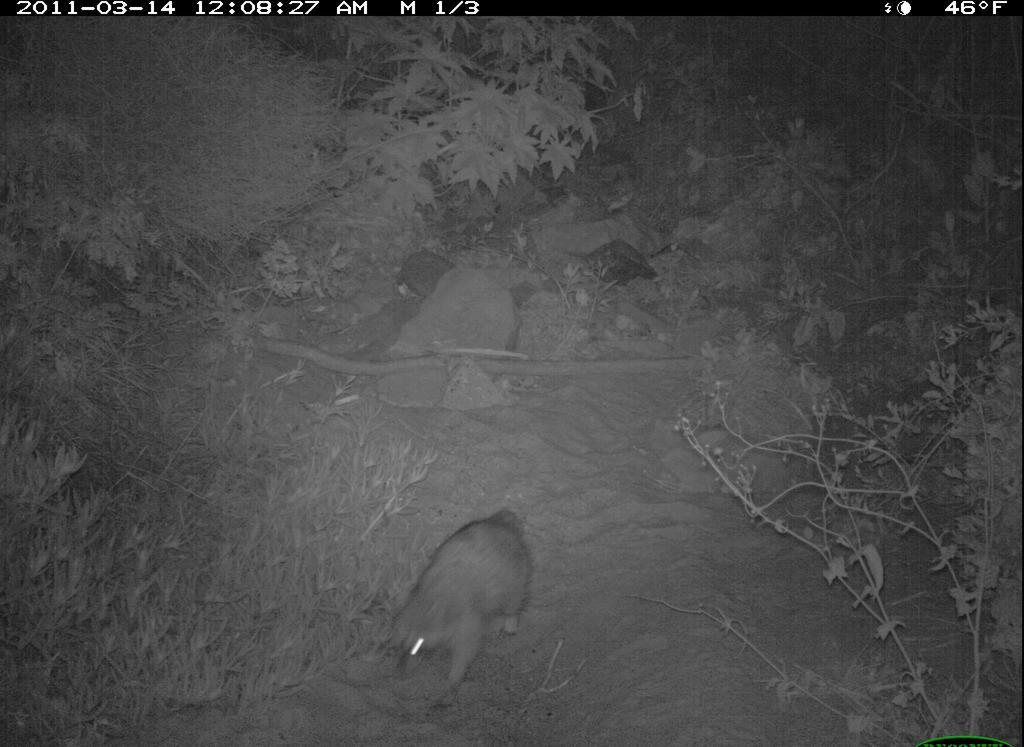raccoon: (373, 484, 556, 708)
